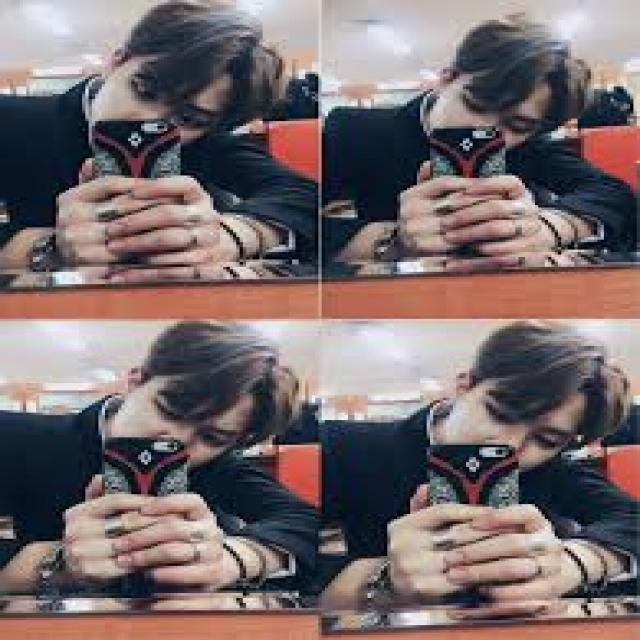Phone: (97, 434, 194, 496), (424, 442, 520, 504), (91, 116, 181, 180), (426, 124, 509, 177)
